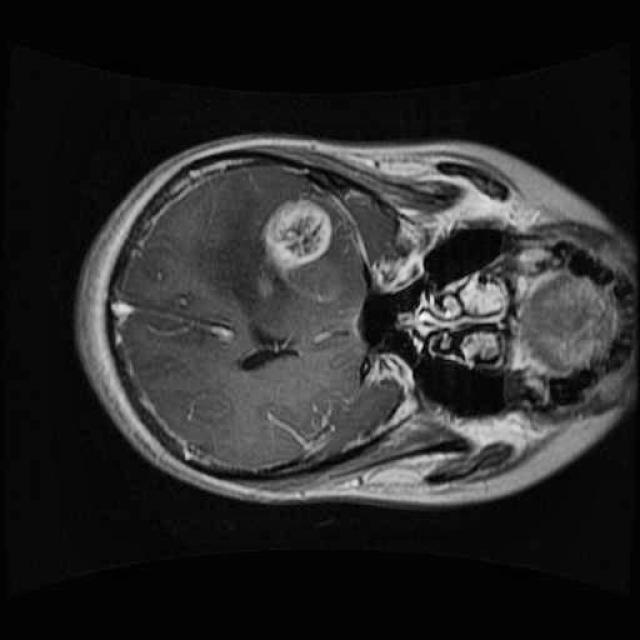Non-Tumor: (239, 189, 346, 320)
